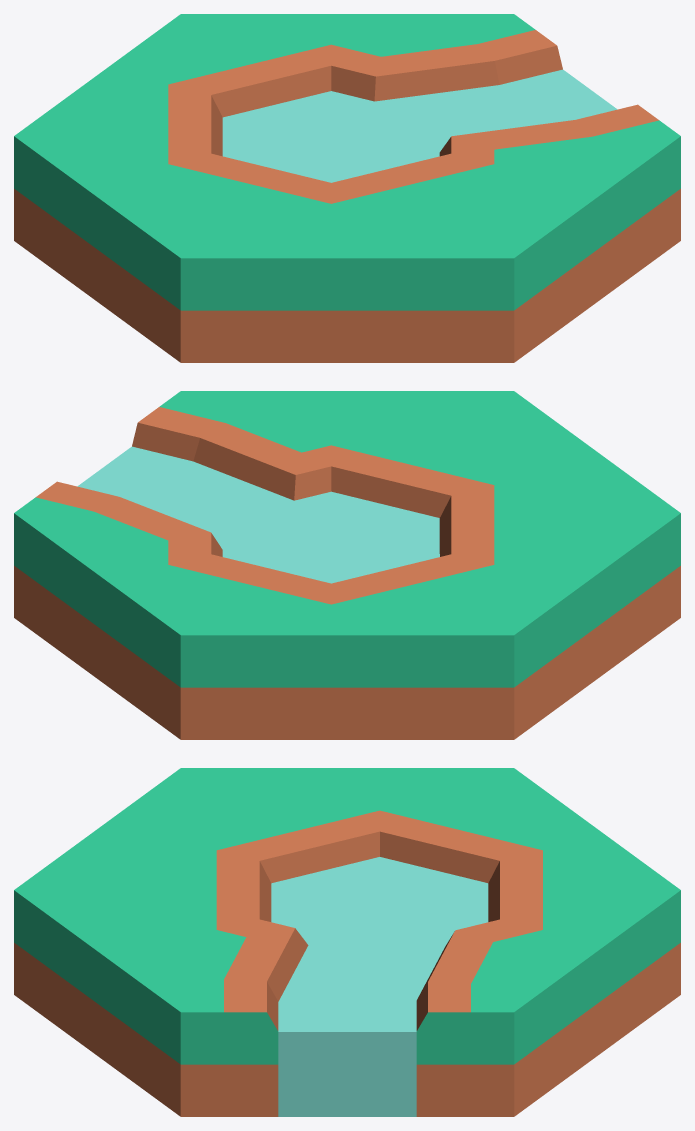
Rendered from river_start.dae.
3 renders of one model, top to bottom at view 1: azimuth 30°, elevation 25°; view 2: azimuth 150°, elevation 25°; view 3: azimuth 270°, elevation 25°, orthographic.
Parts seen in each view (by area): view 1: river_start; view 2: river_start; view 3: river_start.
Boxes of the visible parts, left/top/right/bottom form: river_start: left=14, top=14, right=680, bottom=362; river_start: left=14, top=391, right=680, bottom=739; river_start: left=14, top=768, right=680, bottom=1116.
Size of the model in its own units: 1 by 0.2 by 1.15.
